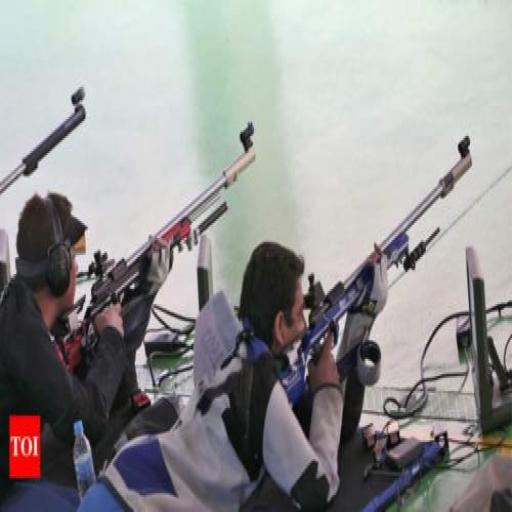shooting: (146, 149, 487, 511), (0, 142, 268, 415), (0, 64, 78, 284)
